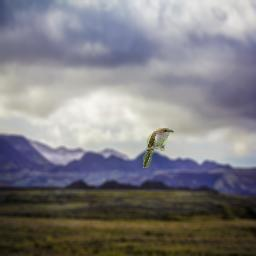Cuckoo: (143, 128, 174, 168)
